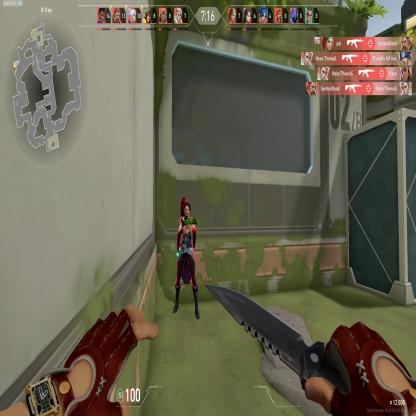enemy: (170, 195, 201, 323)
